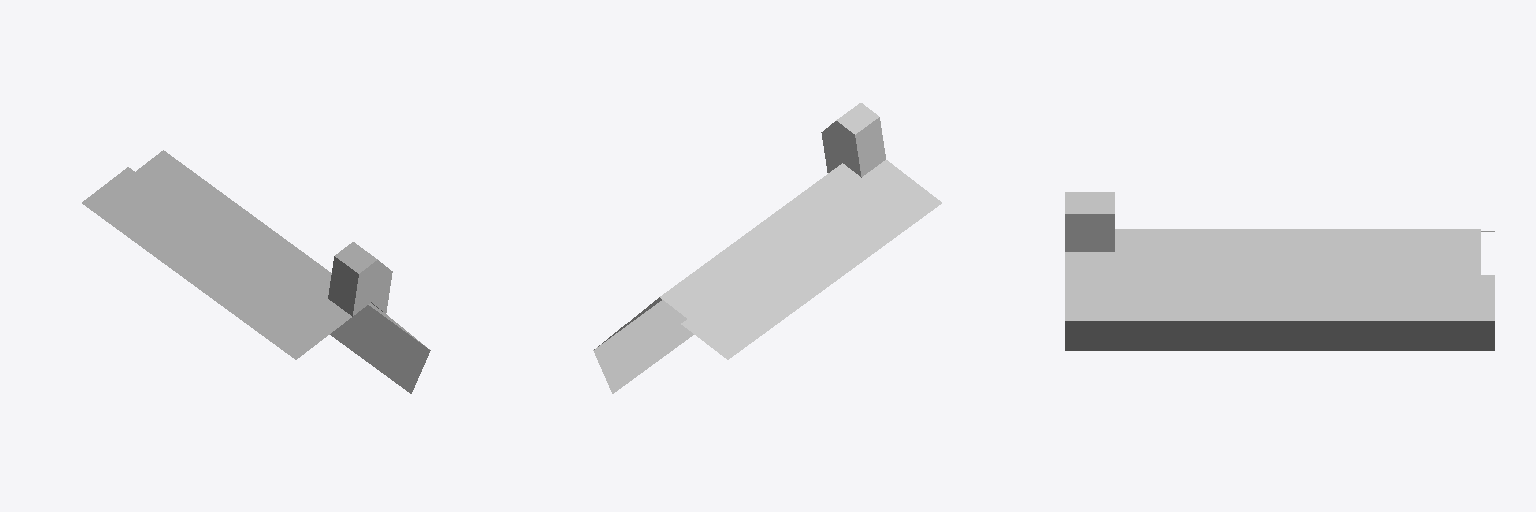
File: gun.obj
3 renders of one model, left to right at view 1: azimuth 30°, elevation 25°; view 2: azimuth 150°, elevation 25°; view 3: azimuth 270°, elevation 25°, orthographic.
Visible parts, largest first — view 1: Cylinder; view 2: Cylinder; view 3: Cylinder.
Boxes of the visible parts, x1,y1,x2,y2 form: Cylinder: [82, 150, 430, 393]; Cylinder: [593, 103, 941, 393]; Cylinder: [1065, 192, 1494, 350].
Size of the model in its own units: 14.63 by 14.85 by 40.43.